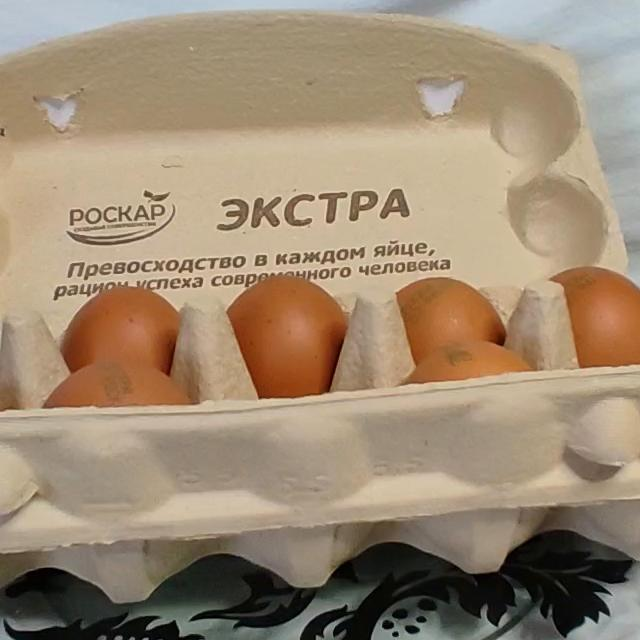egg: (0, 3, 640, 588)
